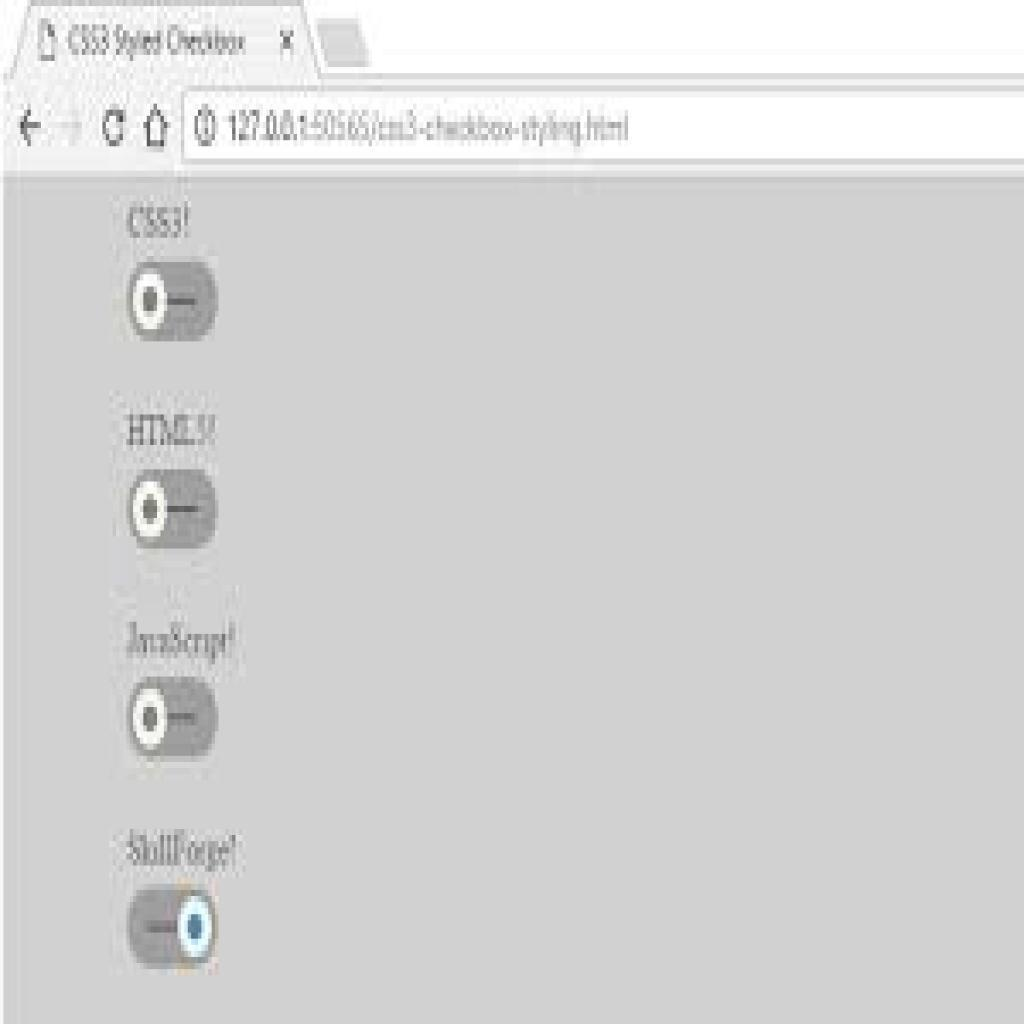label: (123, 615, 245, 672), (123, 829, 243, 873), (129, 405, 222, 453), (123, 199, 197, 243)
switch: (129, 676, 220, 759), (132, 260, 221, 344), (126, 890, 218, 969), (133, 471, 217, 550)
